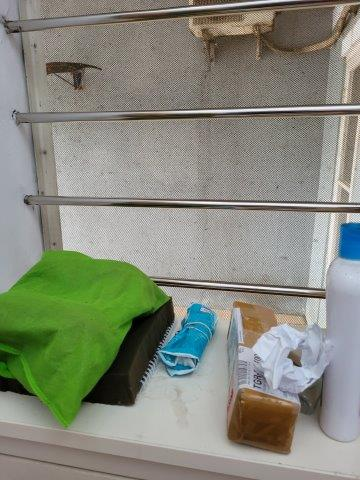kertas: (251, 324, 338, 395)
